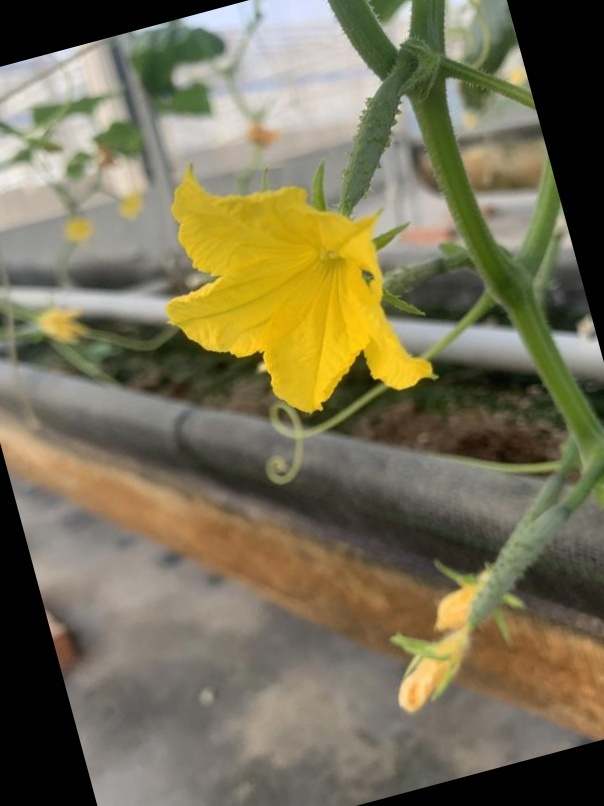flowering: (145, 60, 508, 433)
